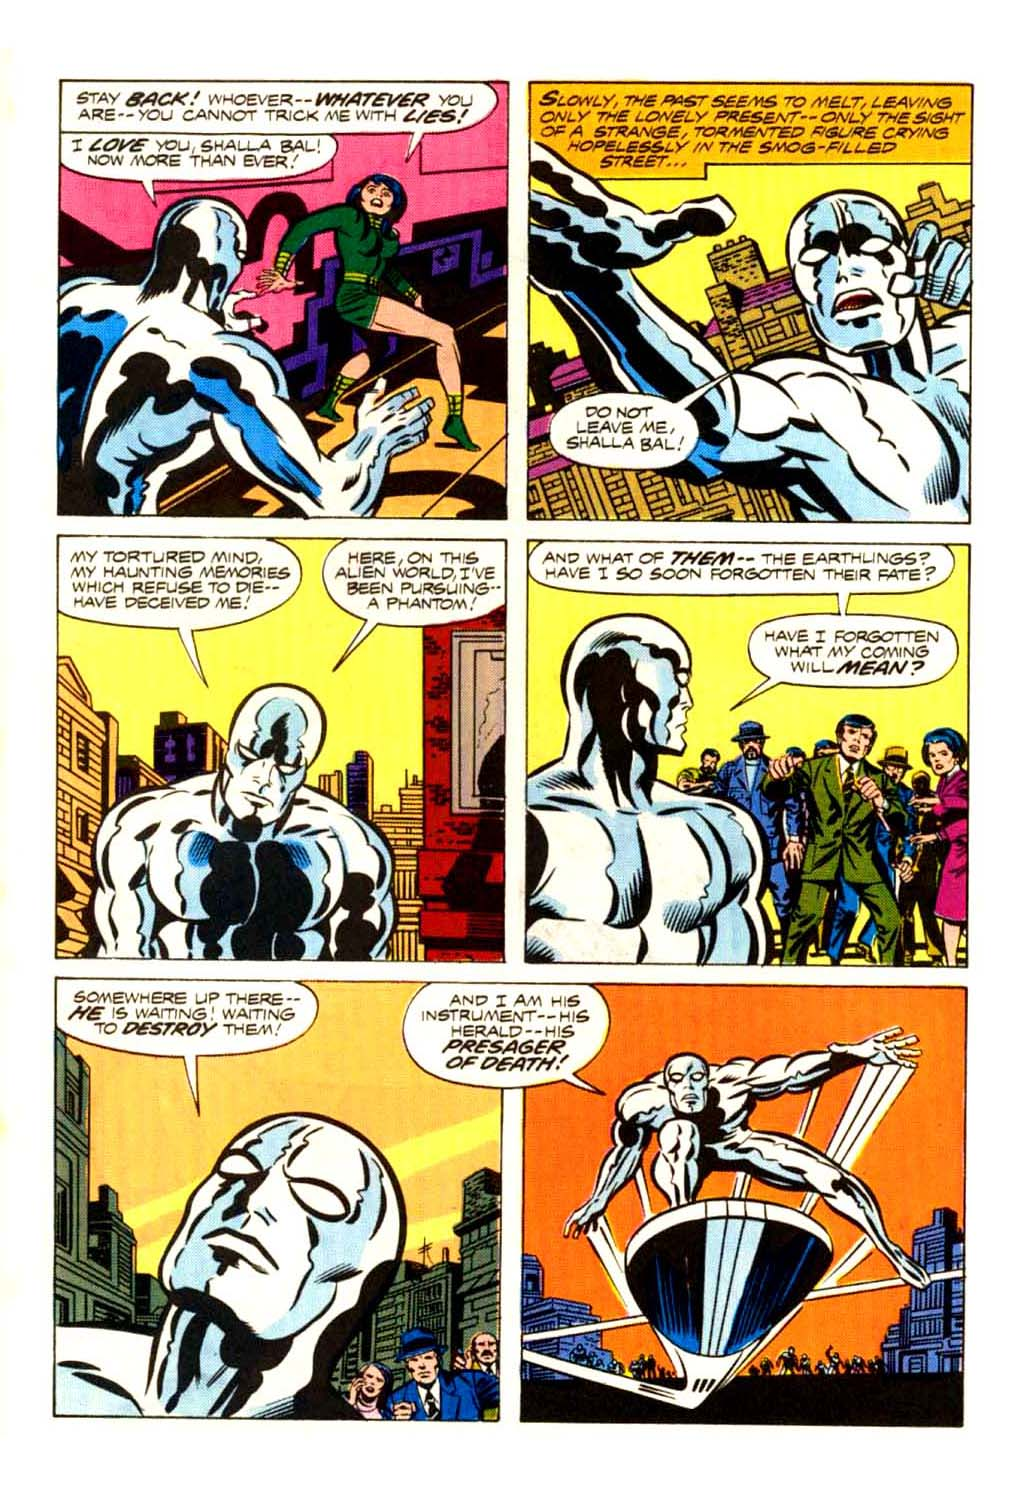Baloon: (527, 83, 974, 183), (59, 80, 504, 138), (59, 534, 309, 636), (527, 545, 955, 599), (406, 983, 608, 1094), (55, 980, 318, 1064), (57, 125, 341, 199), (322, 541, 507, 634), (750, 618, 960, 687), (553, 394, 706, 478)
Vignetta: (520, 985, 967, 1427), (55, 978, 497, 1422), (64, 78, 507, 518), (527, 80, 971, 518), (525, 538, 969, 969), (57, 541, 511, 962)
